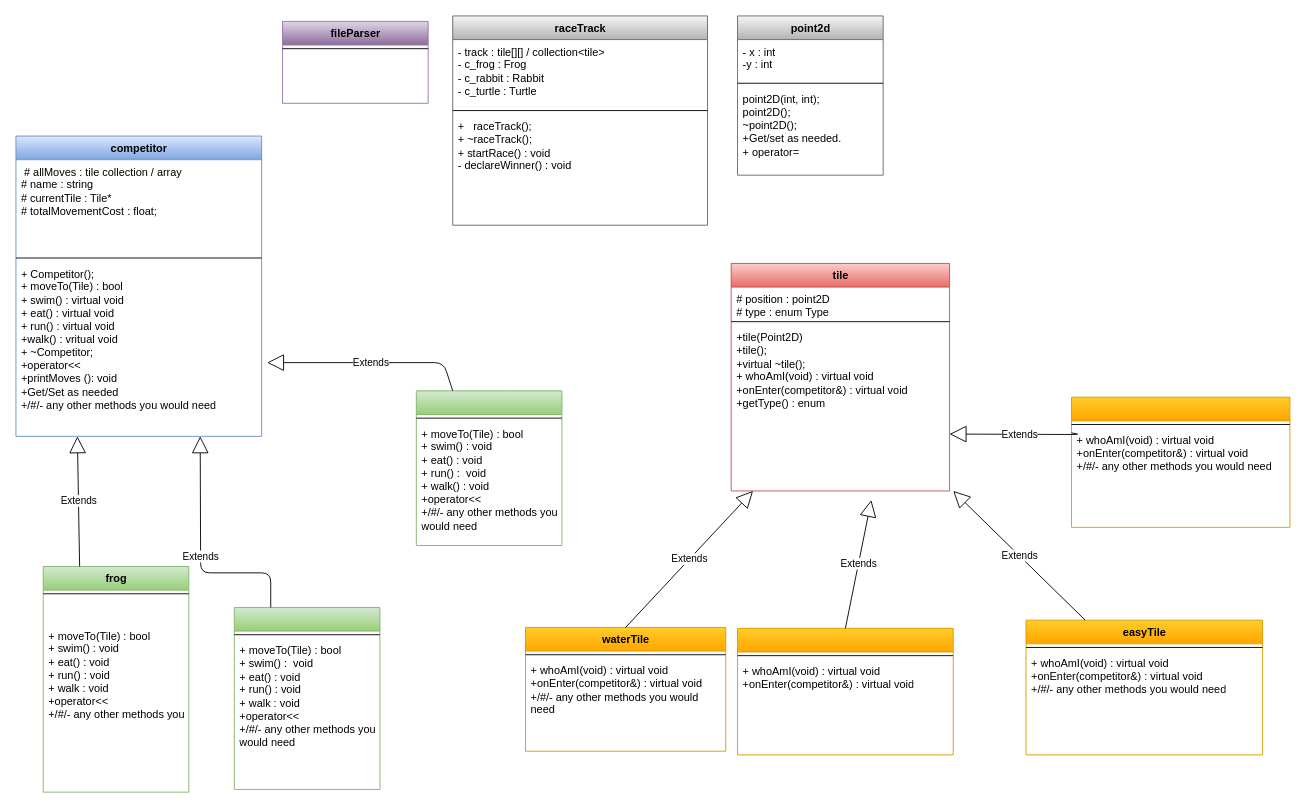
The diagram is 1306 pixels wide and 808 high, and some of its shapes have lost their labels. Here are the shapes that lost their labels. From the top down, the box of each, then its label:
(415, 390, 562, 546): turtle
(1071, 396, 1290, 527): cropTile
(233, 607, 380, 789): rabbit
(737, 627, 953, 755): mediumTile
